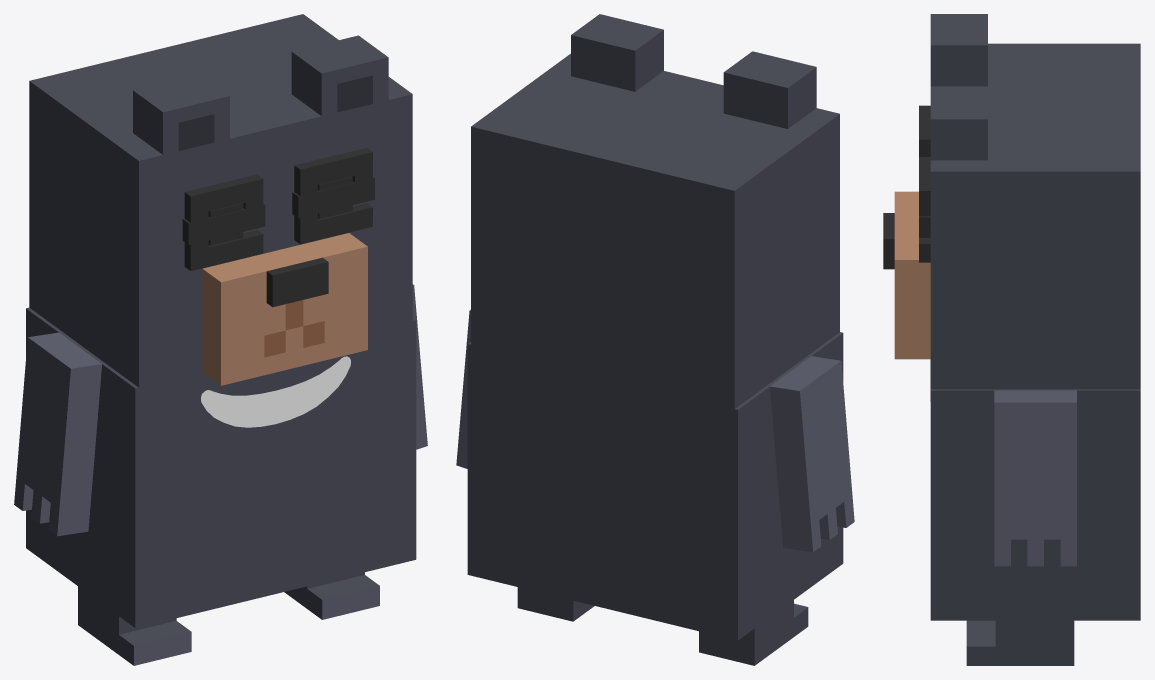
3 views of the same model, side by side, from view 1: azimuth 30°, elevation 25°; view 2: azimuth 150°, elevation 25°; view 3: azimuth 270°, elevation 25° (orthographic). The views are drawn at different scales.
Visible parts, largest first — view 1: Ch_09_Head, Ch_09, Ch_09_Hand_L, Ch_09_Leg_L, Ch_09_Eye_03_L, Ch_09_Eye_03_R, Ch_09_Eye_02, Ch_09_Leg_R, Ch_09_Hand_R, Ch_09_Eye_01; view 2: Ch_09_Head, Ch_09, Ch_09_Hand_L, Ch_09_Leg_L, Ch_09_Leg_R, Ch_09_Hand_R; view 3: Ch_09_Head, Ch_09, Ch_09_Hand_R, Ch_09_Leg_R, Ch_09_Eye_03_R, Ch_09_Eye_03_L.
Boxes of the visible parts, x1,y1,x2,y2 form: Ch_09_Head: (29,14,412,387); Ch_09: (26,307,416,628); Ch_09_Hand_L: (14,332,101,536); Ch_09_Leg_L: (78,586,191,665); Ch_09_Eye_03_L: (184,174,263,270); Ch_09_Eye_03_R: (294,147,372,244); Ch_09_Eye_02: (182,177,374,244); Ch_09_Leg_R: (284,572,379,619); Ch_09_Hand_R: (412,284,427,449); Ch_09_Eye_01: (208,176,352,245); Ch_09_Head: (471,14,839,408); Ch_09: (467,332,843,640); Ch_09_Hand_L: (770,356,854,552); Ch_09_Leg_L: (699,600,808,665); Ch_09_Leg_R: (517,587,594,621); Ch_09_Hand_R: (456,309,470,468); Ch_09_Head: (883,14,1140,389); Ch_09: (930,359,1140,620); Ch_09_Hand_R: (994,390,1076,566); Ch_09_Leg_R: (966,620,1074,665); Ch_09_Eye_03_R: (919,157,930,262); Ch_09_Eye_03_L: (919,105,930,156).
Size of the model in its own units: 8.52 by 12.41 by 5.34.
